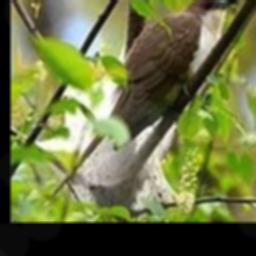Cuckoo: (54, 0, 238, 193)
